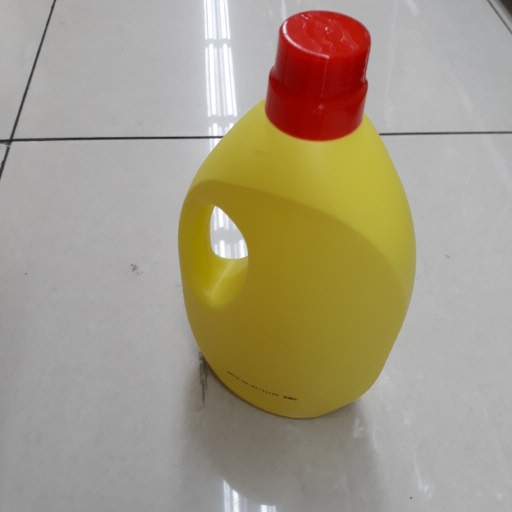Plastic_1: (179, 12, 418, 421)
